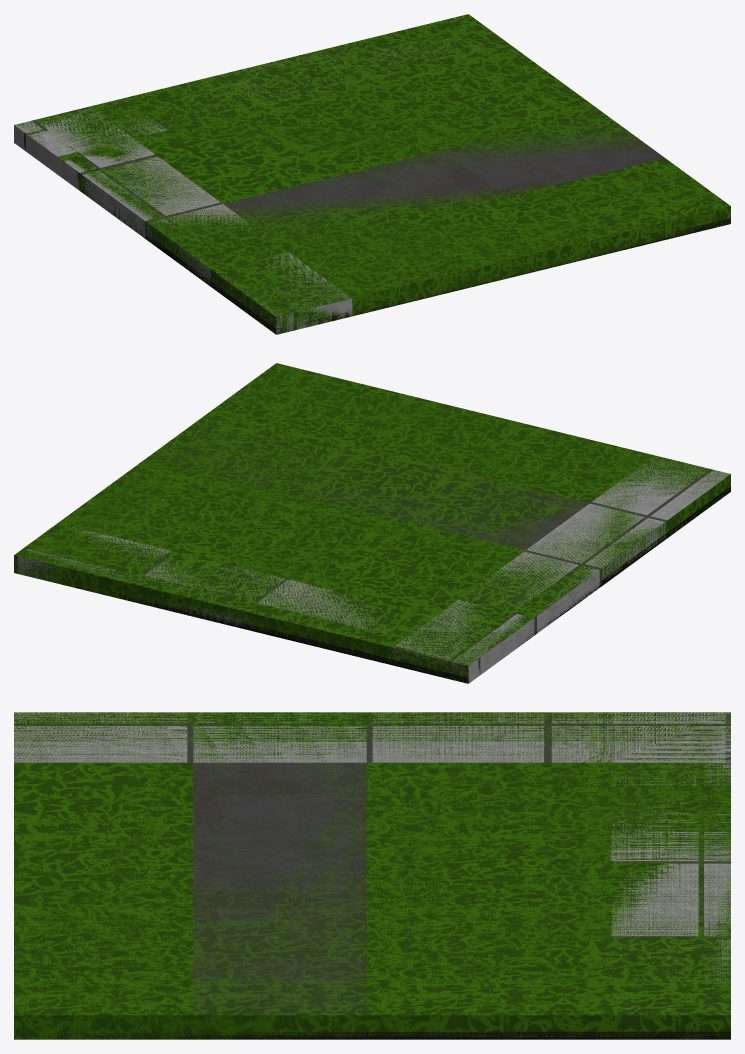
File: ground_tiles.glb
The picture shows the model from 3 angles, top to bottom: view 1: azimuth 30°, elevation 25°; view 2: azimuth 150°, elevation 25°; view 3: azimuth 270°, elevation 25°; orthographic projection. The views are drawn at different scales.
Visible parts, largest first — view 1: yard_grass_only, yard_sidewalk_driveway, yard_sidewalk_outer_corner, yard_sidewalk_inner_corner, yard_sidewalk_straight_edge, road_straight; view 2: yard_grass_only, yard_sidewalk_outer_corner, yard_sidewalk_driveway, yard_sidewalk_straight_edge, yard_sidewalk_inner_corner, road_straight, road_parking; view 3: yard_sidewalk_driveway, yard_grass_only, yard_sidewalk_straight_edge, yard_sidewalk_outer_corner, yard_sidewalk_inner_corner, road_straight, road_T.
Part boxes in pixels (x1,y1,x2,y2): yard_grass_only: (15,14,730,333); yard_sidewalk_driveway: (20,14,725,333); yard_sidewalk_outer_corner: (14,16,730,334); yard_sidewalk_inner_corner: (14,16,684,334); yard_sidewalk_straight_edge: (94,15,686,315); road_straight: (76,184,730,334); yard_grass_only: (15,363,730,682); yard_sidewalk_outer_corner: (14,364,729,680); yard_sidewalk_driveway: (14,364,729,682); yard_sidewalk_straight_edge: (15,363,665,644); yard_sidewalk_inner_corner: (14,363,729,683); road_straight: (98,486,730,683); road_parking: (100,521,690,677); yard_sidewalk_driveway: (14,712,730,1039); yard_grass_only: (14,712,730,1039); yard_sidewalk_straight_edge: (14,713,730,1039); yard_sidewalk_outer_corner: (14,712,730,1039); yard_sidewalk_inner_corner: (14,712,730,1039); road_straight: (17,1031,730,1039); road_T: (15,1033,713,1039).
Size of what is drawn, in the model's own units: 8 by 0.3 by 8.
Materials: 11 (10 with a texture image).
